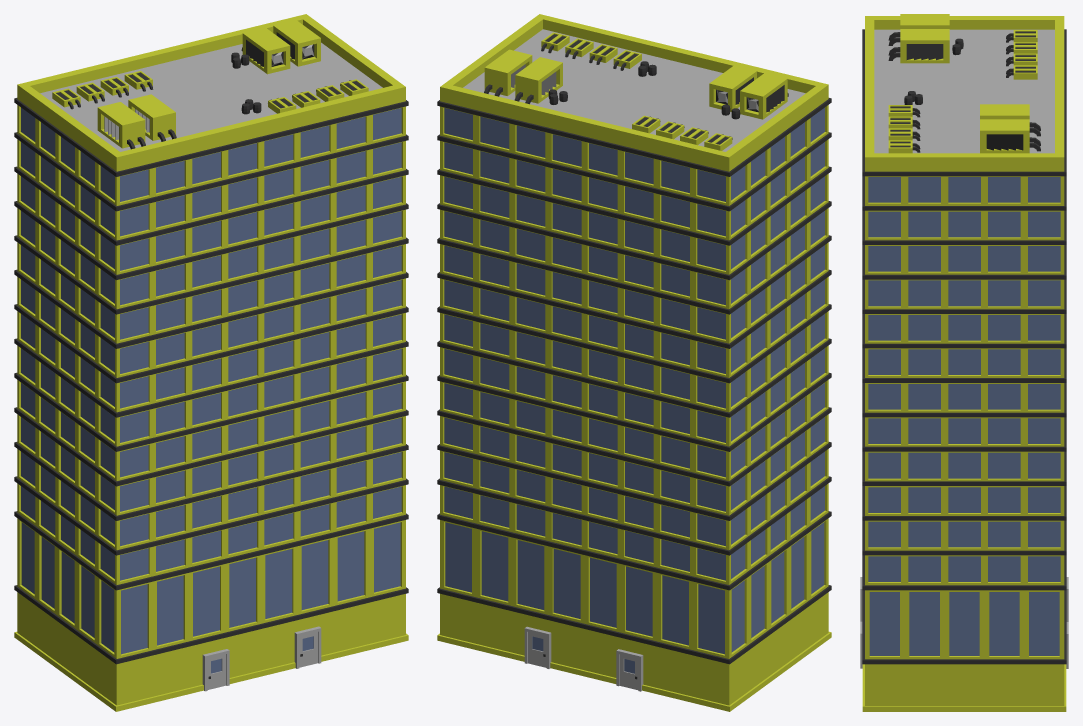
The model's file is Skyscraper1_3.fbx.
3 renders of one model, left to right at view 1: azimuth 30°, elevation 25°; view 2: azimuth 150°, elevation 25°; view 3: azimuth 270°, elevation 25°, orthographic.
Parts seen in each view (by area): view 1: Building2_1.005; view 2: Building2_1.005; view 3: Building2_1.005.
Part boxes in pixels (<box>): Building2_1.005: <box>14,14,408,711</box>; Building2_1.005: <box>437,14,831,711</box>; Building2_1.005: <box>860,14,1068,711</box>.
Size of the model in its own units: 1117 by 2067 by 688.
